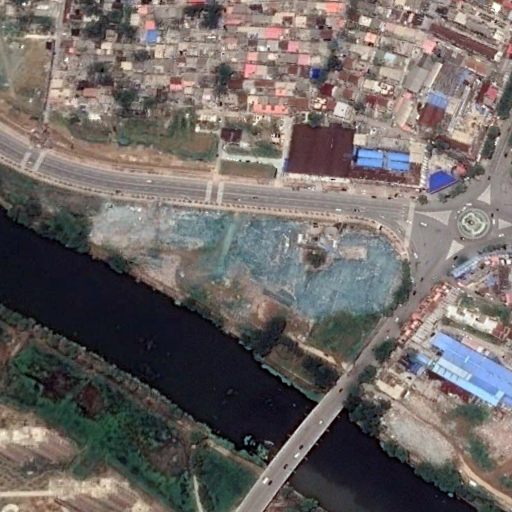cw: (92, 206, 402, 324)
